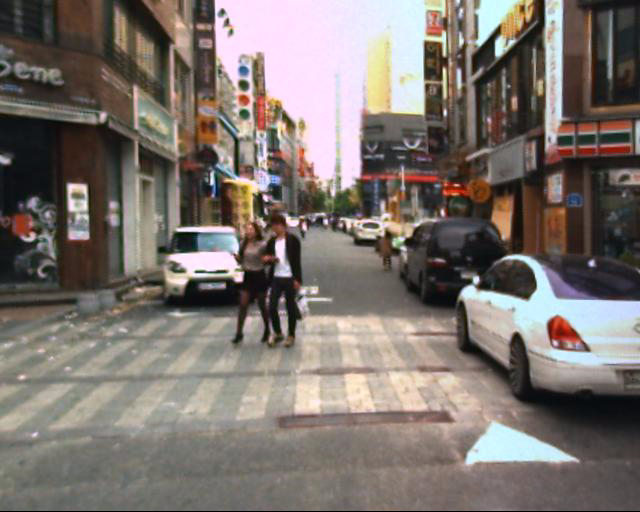person: (220, 203, 273, 355), (261, 204, 312, 358), (375, 222, 402, 284)
